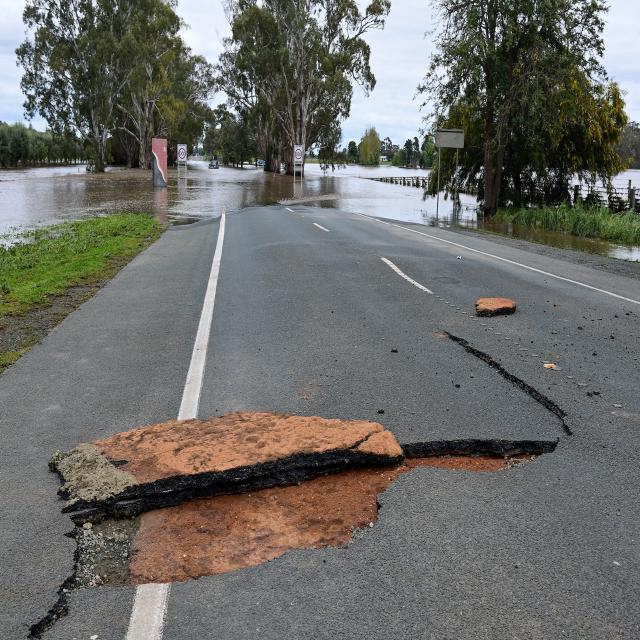Pothole: (29, 411, 558, 638)
